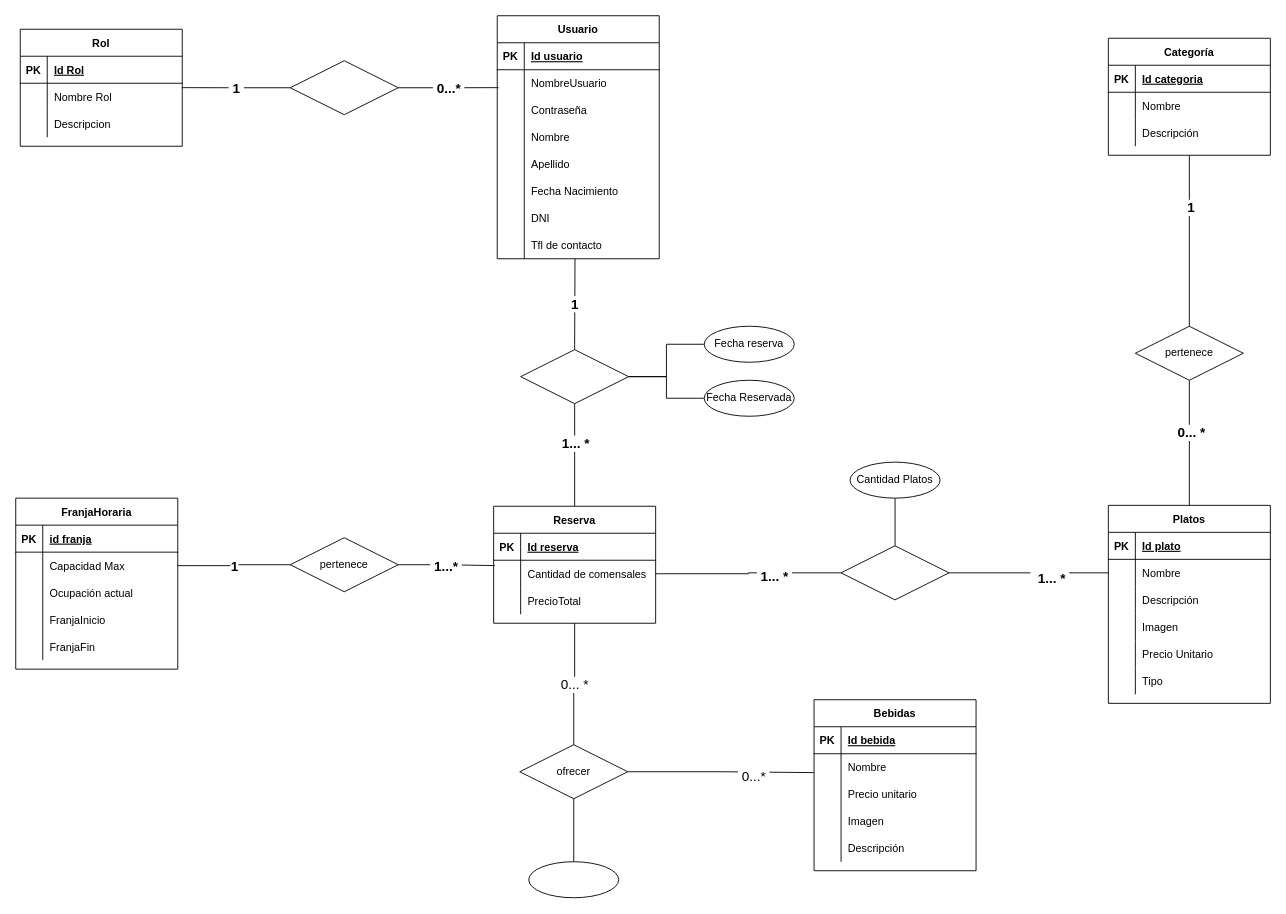
Some shapes in this 1286 by 914 pixel diagram are drawn without their labels. Each missing label, with the centre of its shape:
"Cantidad bebidas" belongs at point (573, 879).
"Es" belongs at point (343, 87).
"pedir" belongs at point (894, 572).
"Realiza" belongs at point (574, 376).
